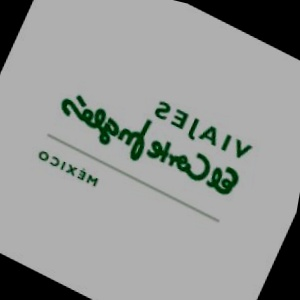corte_ingles: (217, 64, 288, 173)
